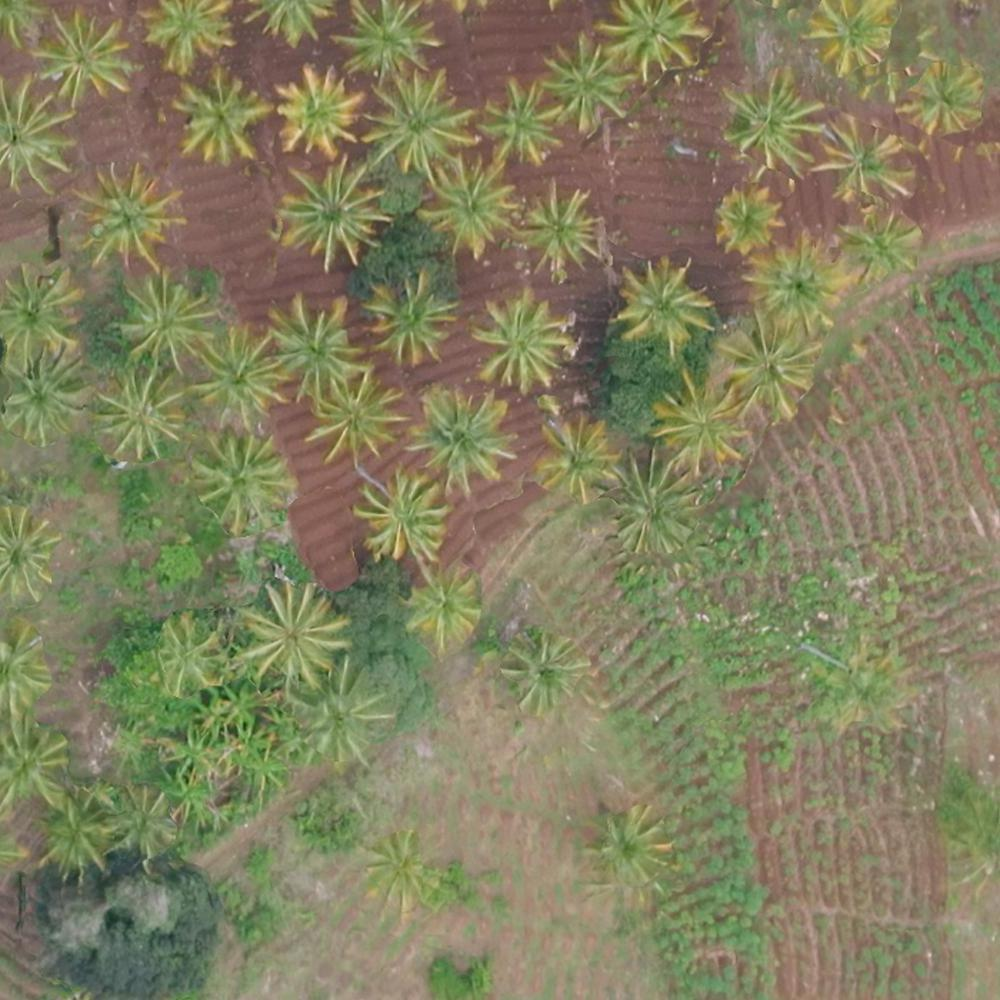Palm: (240, 582, 347, 682), (278, 162, 384, 261), (186, 326, 290, 426), (186, 429, 285, 531), (416, 385, 513, 488), (719, 69, 817, 169), (80, 166, 178, 263), (822, 113, 921, 209), (364, 75, 471, 162), (719, 317, 812, 415), (603, 447, 695, 546), (754, 235, 845, 335), (113, 274, 210, 365), (597, 1, 712, 77), (264, 296, 353, 392), (1, 79, 75, 194), (545, 31, 637, 123), (93, 369, 187, 459), (34, 10, 129, 99), (290, 669, 380, 760), (351, 474, 445, 561), (2, 351, 85, 449), (616, 256, 709, 343), (308, 377, 405, 460), (176, 75, 264, 163), (275, 67, 359, 159), (331, 7, 433, 82), (517, 189, 603, 274), (427, 161, 509, 250), (659, 376, 742, 463), (528, 416, 617, 497), (365, 278, 453, 358), (5, 266, 82, 356), (141, 1, 233, 75), (586, 810, 674, 885), (1, 714, 74, 804), (810, 1, 895, 77), (481, 80, 561, 160), (508, 635, 587, 713), (845, 207, 925, 278), (907, 58, 980, 134), (365, 835, 434, 909), (409, 568, 477, 638), (158, 616, 221, 688), (712, 189, 781, 252)
